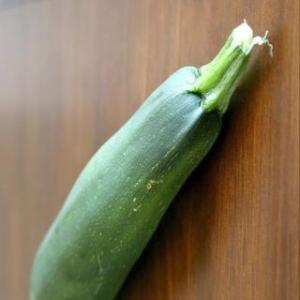zucchini: (0, 30, 270, 300)
